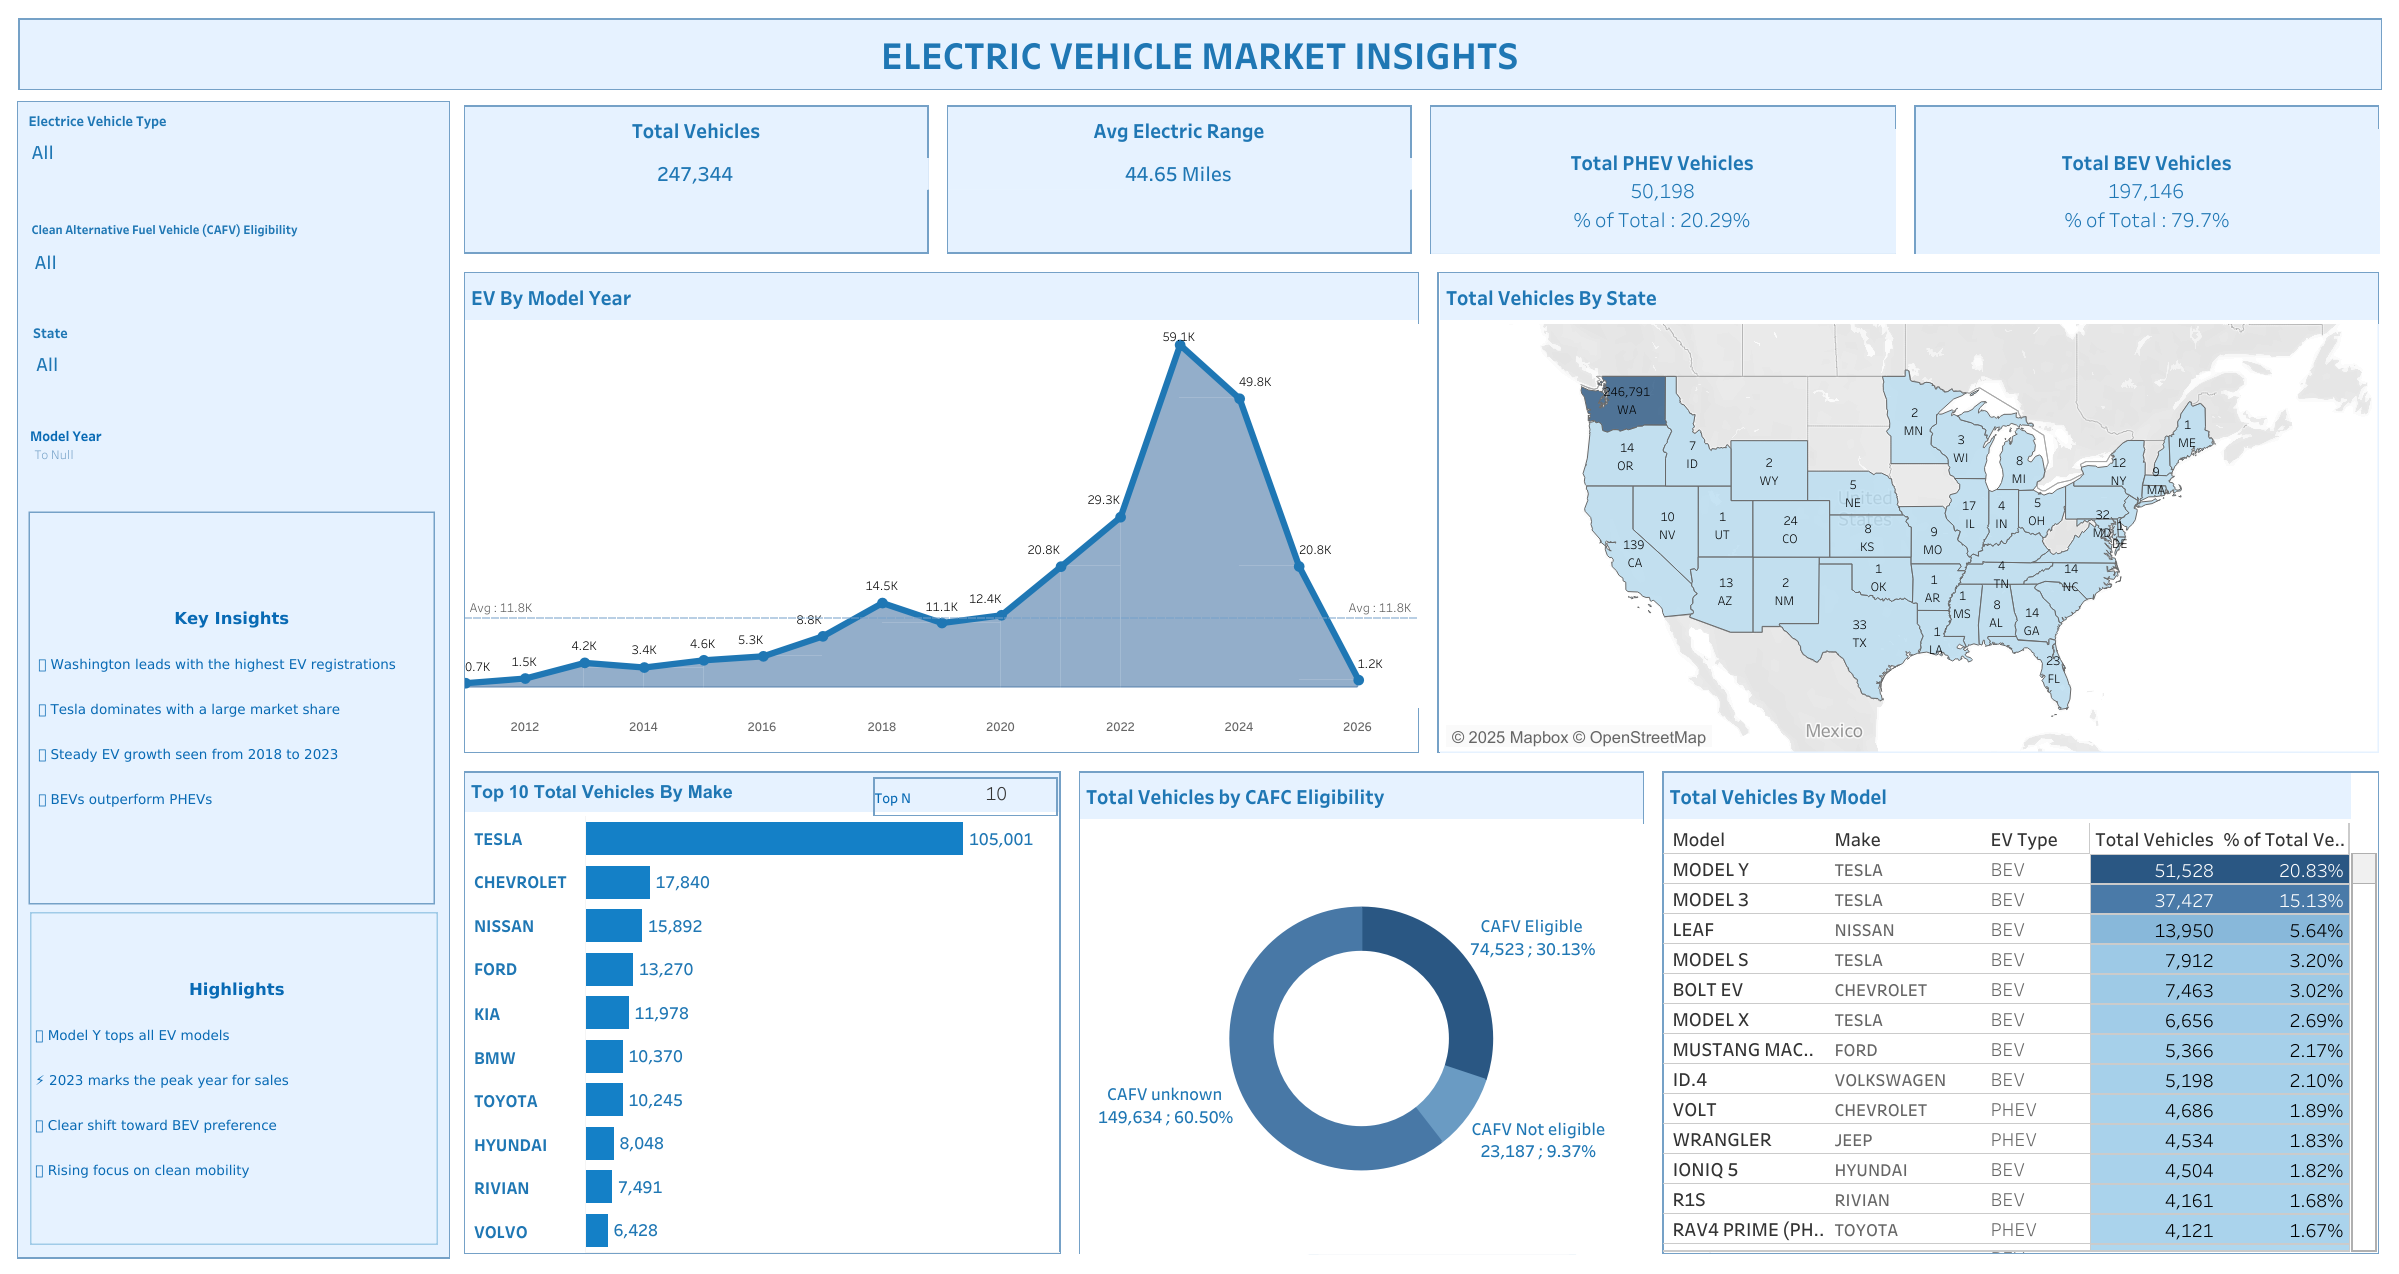

Layout of this report page (visuals, bound fields, positions):
{"tool":"tableau","page":{"name":"Tableau Dashboard","canvas":[1600,850],"ordinal":0},"visuals":[{"type":"title","box":[8,8,1584,55.7]},{"type":"worksheet","title":"c2","mark":"Automatic","box":[303,63.7,322.2,111.3]},{"type":"worksheet","title":"c1","mark":"Automatic","box":[625.2,63.7,322.2,111.3]},{"type":"worksheet","title":"PHEV","mark":"Automatic","box":[947.5,63.7,322.2,111.3]},{"type":"worksheet","title":"BEV","mark":"Automatic","box":[1269.7,63.7,322.2,111.3]},{"type":"filter","title":"distribution","param":"[federated.0yw8wm01gj01z919hb2dq0ccen3v].[none:Electric Vehicle Type:nk]","box":[19,73,276,66]},{"type":"filter","title":"distribution","param":"[federated.0yw8wm01gj01z919hb2dq0ccen3v].[none:Clean Alternative Fuel Vehicle (C","box":[21,146,269,62]},{"type":"worksheet","title":"Count of EVS","mark":"Area","rows":["DOL Vehicle ID","DOL Vehicle ID"],"cols":["Model Year"],"box":[303,175,649.5,332.5]},{"type":"worksheet","title":"Map","mark":"Multipolygon","box":[952.5,175,639.5,332.5]},{"type":"filter","title":"distribution","param":"[federated.0yw8wm01gj01z919hb2dq0ccen3v].[none:State:nk]","box":[22,214,261,58]},{"type":"filter","title":"Count of EVS","param":"[federated.0yw8wm01gj01z919hb2dq0ccen3v].[none:Model Year:qk]","box":[20,283,268,44]},{"type":"text","box":[19,341,271,262]},{"type":"worksheet","title":"distribution","mark":"Bar","rows":["Make"],"cols":["DOL Vehicle ID"],"box":[303,507.5,410,334.4]},{"type":"worksheet","title":"PIE","mark":"Pie","rows":["Calculation_285415628102529030","Calculation_285415628102529030"],"box":[713,507.5,389,334.4]},{"type":"worksheet","title":"TABLE","mark":"Square","rows":["Model","Make","Electric Vehicle Type"],"box":[1102,507.5,490,334.5]},{"type":"parameter","param":"[Parameters].[Parameter 2]","box":[582,518,123,26]},{"type":"text","box":[20,608,272,222]}]}

Visuals, with their boxes in screenshot pixels (x1, y1, x2, y2), scaled from the page's 1600x850 canvas onto the 2399x1274 screenshot:
title: select_region(12, 12, 2387, 95)
"c2" worksheet: select_region(454, 95, 937, 262)
"c1" worksheet: select_region(937, 95, 1421, 262)
"PHEV" worksheet: select_region(1421, 95, 1904, 262)
"BEV" worksheet: select_region(1904, 95, 2387, 262)
"distribution" filter: select_region(28, 109, 442, 208)
"distribution" filter: select_region(31, 219, 435, 312)
"Count of EVS" worksheet (Area marks): select_region(454, 262, 1428, 761)
"Map" worksheet (Multipolygon marks): select_region(1428, 262, 2387, 761)
"distribution" filter: select_region(33, 321, 424, 408)
"Count of EVS" filter: select_region(30, 424, 432, 490)
text: select_region(28, 511, 435, 904)
"distribution" worksheet (Bar marks): select_region(454, 761, 1069, 1262)
"PIE" worksheet (Pie marks): select_region(1069, 761, 1652, 1262)
"TABLE" worksheet (Square marks): select_region(1652, 761, 2387, 1262)
parameter: select_region(873, 776, 1057, 815)
text: select_region(30, 911, 438, 1244)
